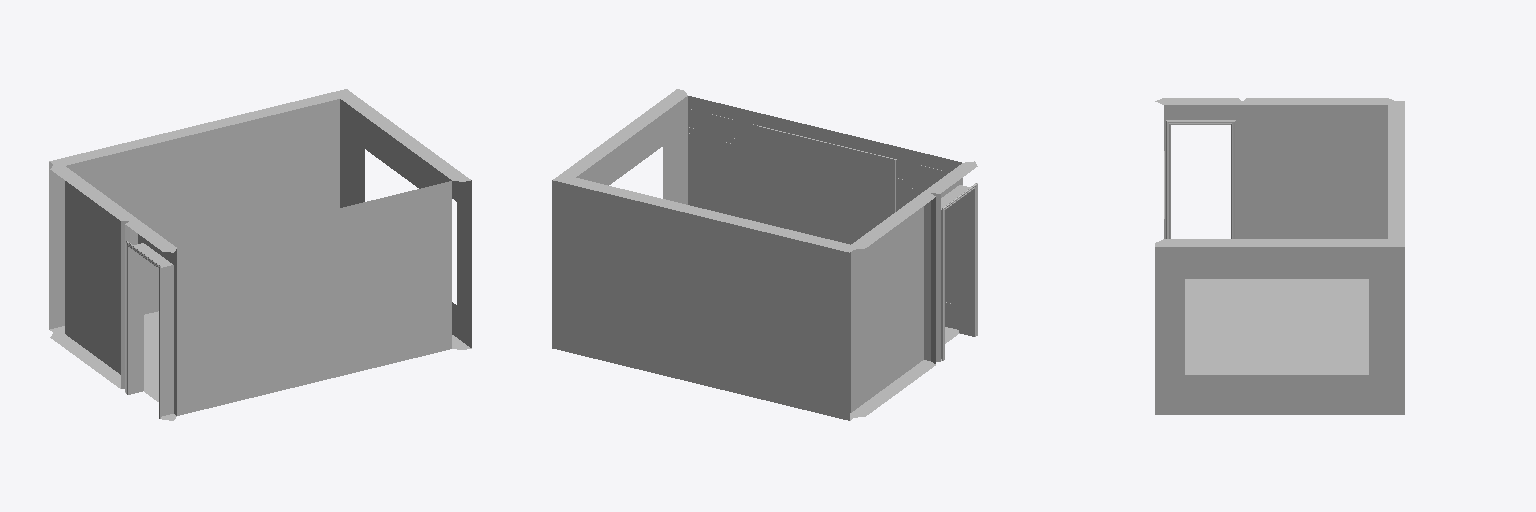
The model's file is mesh_noceilling.obj.
3 views of the same model, side by side, from view 1: azimuth 30°, elevation 25°; view 2: azimuth 150°, elevation 25°; view 3: azimuth 270°, elevation 25° (orthographic).
Size of the model in its own units: 4.95 by 2.6 by 3.5.